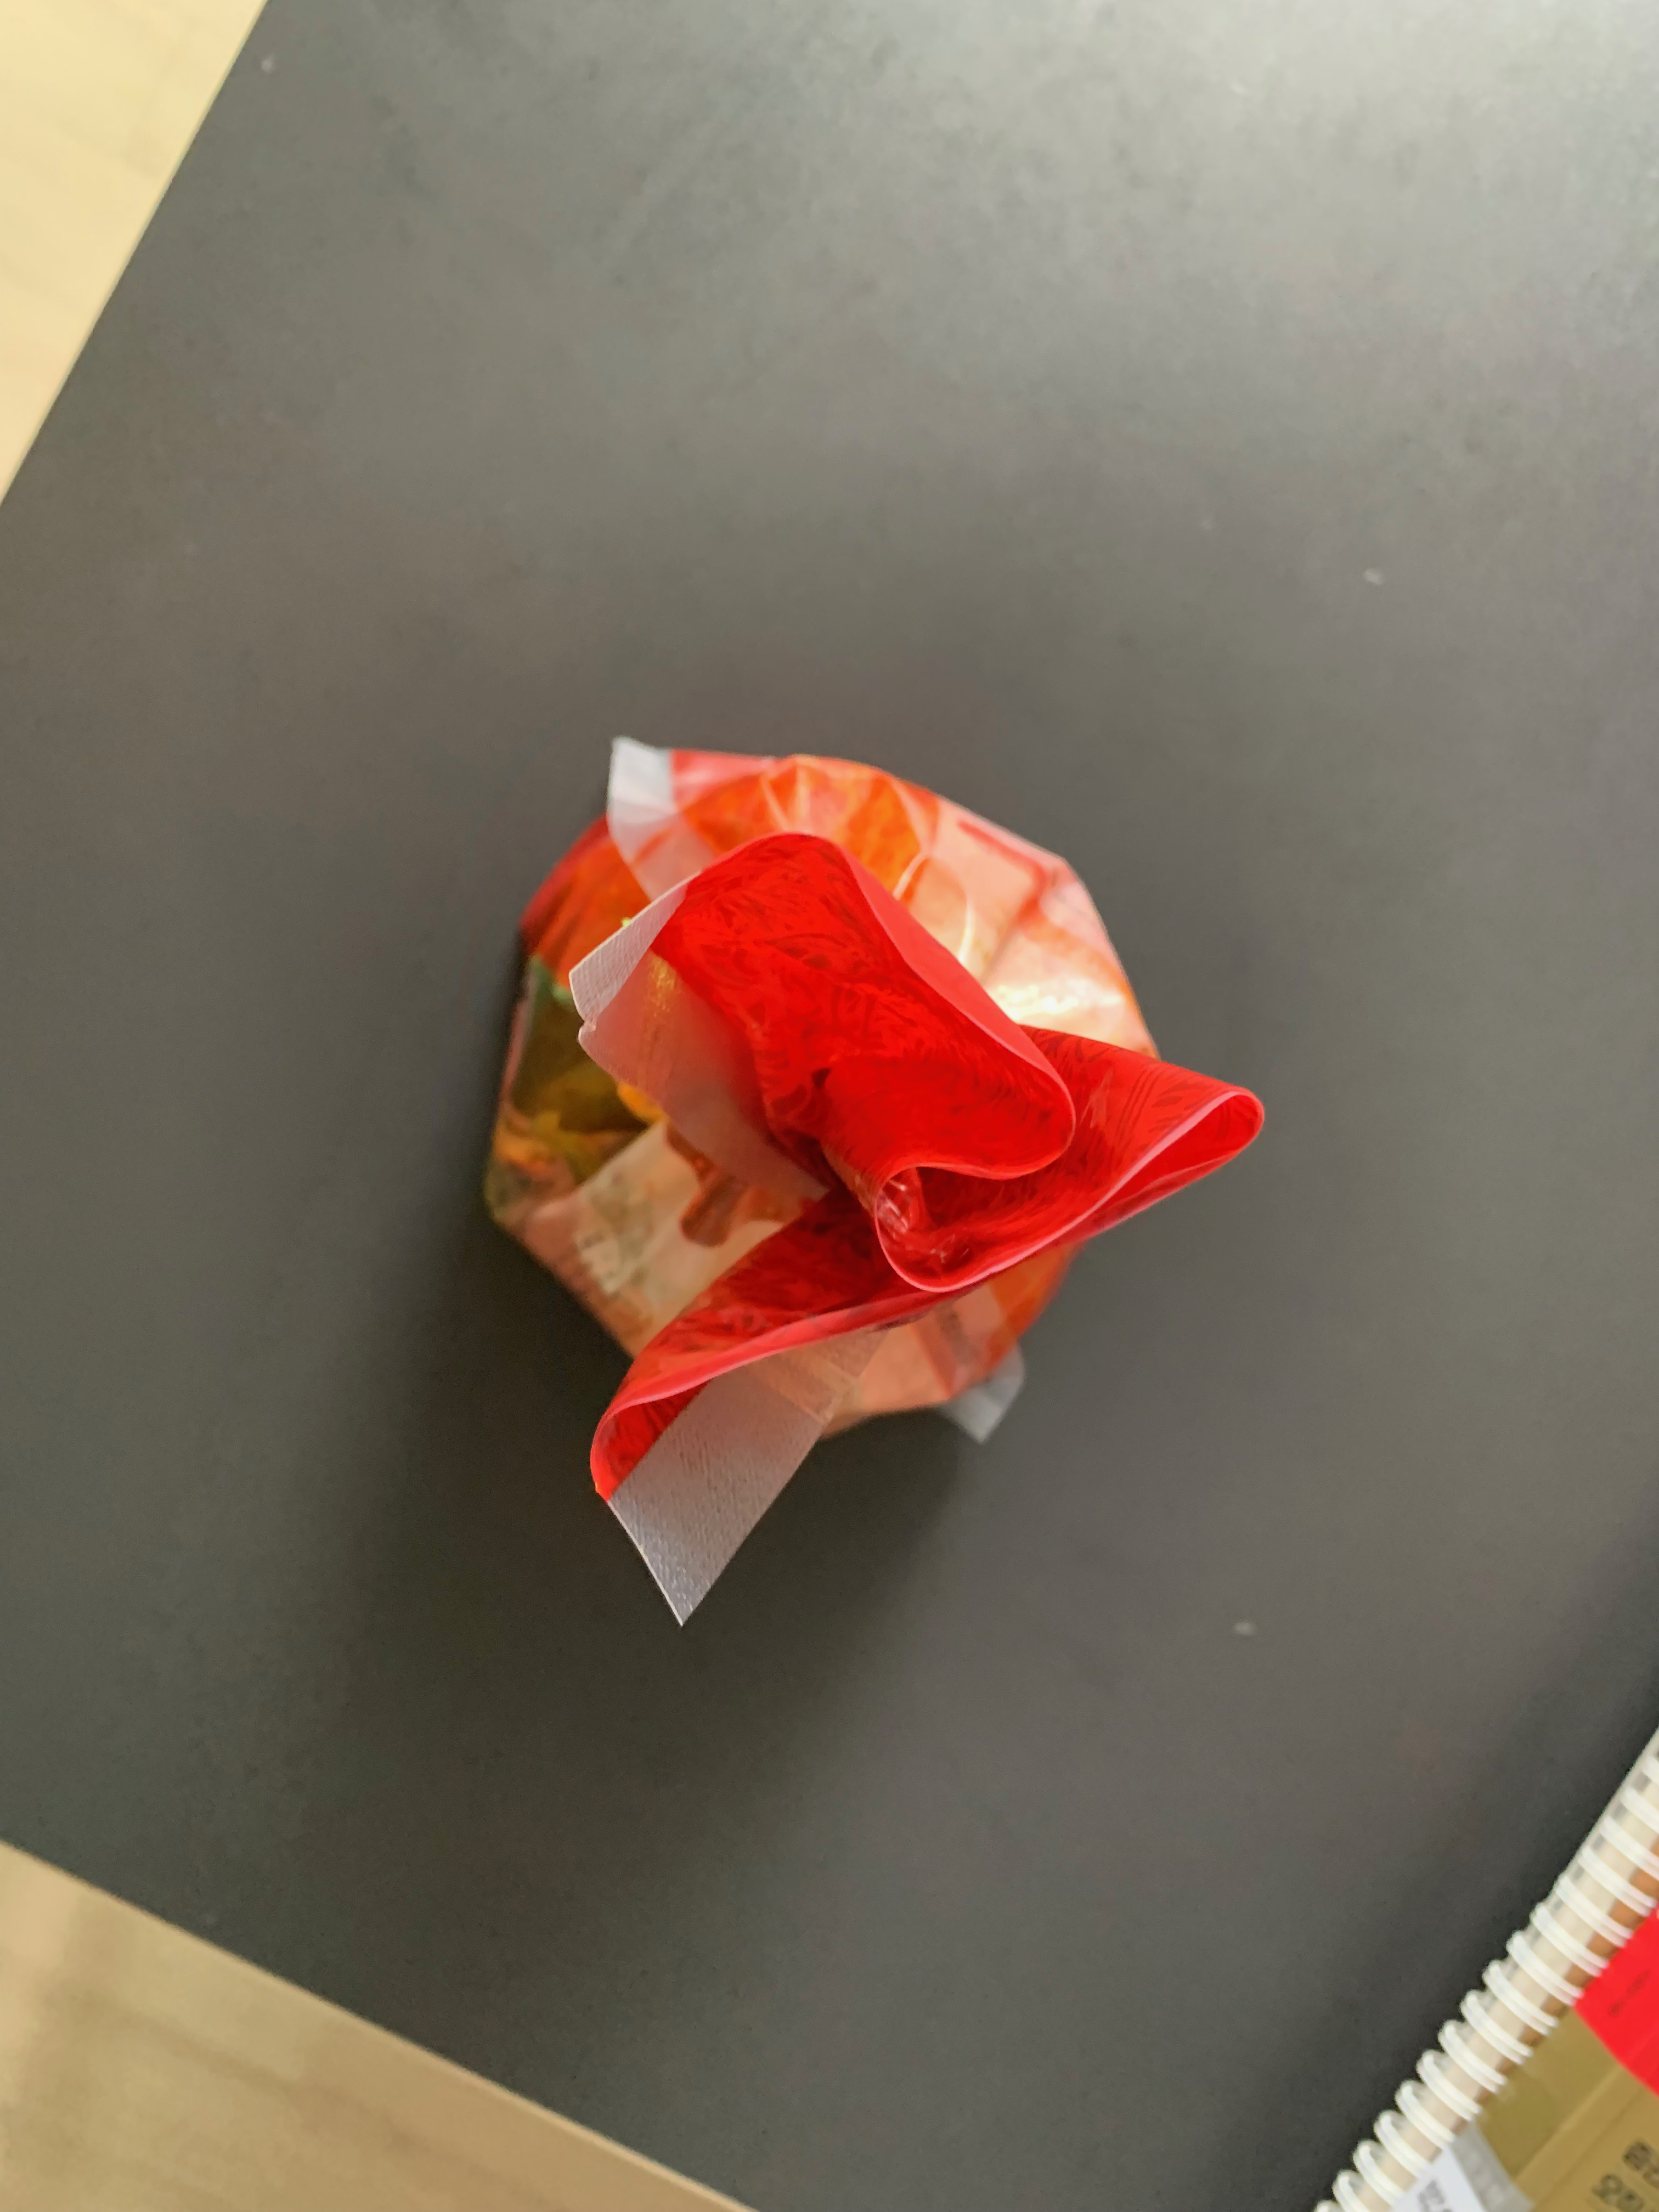kimchi: (486, 749, 1269, 1498)
